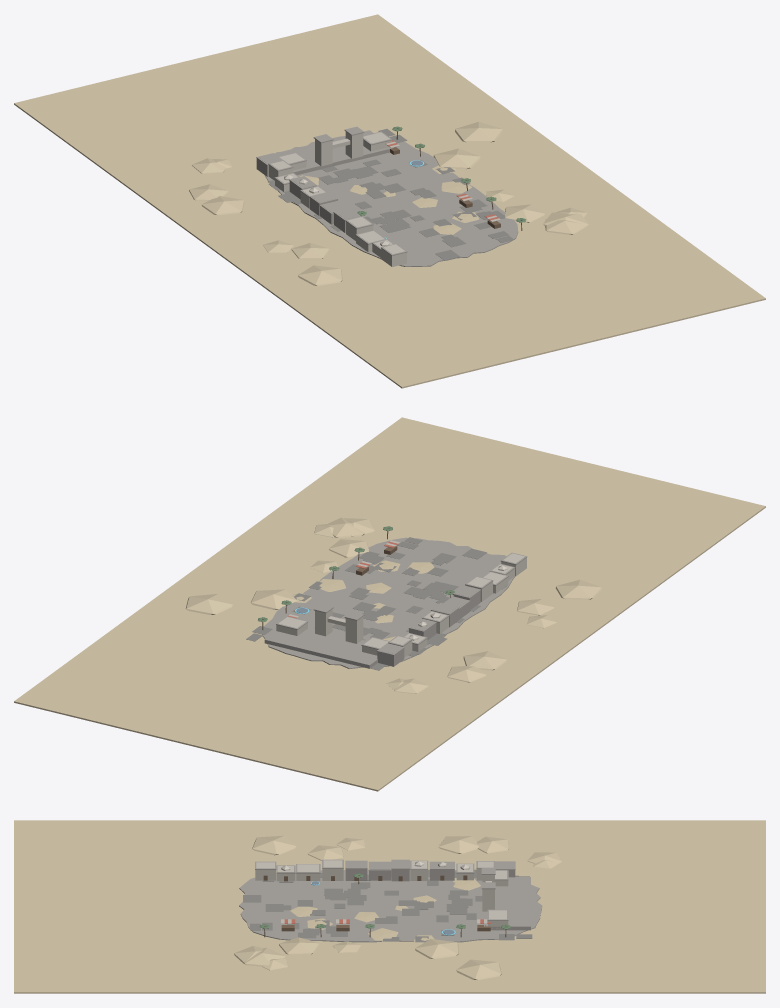
Rendered from bind.glb.
3 renders of one model, top to bottom at view 1: azimuth 30°, elevation 25°; view 2: azimuth 150°, elevation 25°; view 3: azimuth 270°, elevation 25°, orthographic. The views are drawn at different scales.
Visible parts, largest first — view 1: Static; view 2: Static; view 3: Static.
Part boxes in pixels (<box>): Static: <box>14,14,765,388</box>; Static: <box>14,417,765,791</box>; Static: <box>14,820,765,993</box>.
Size of the model in its own units: 52 by 5.28 by 96.
